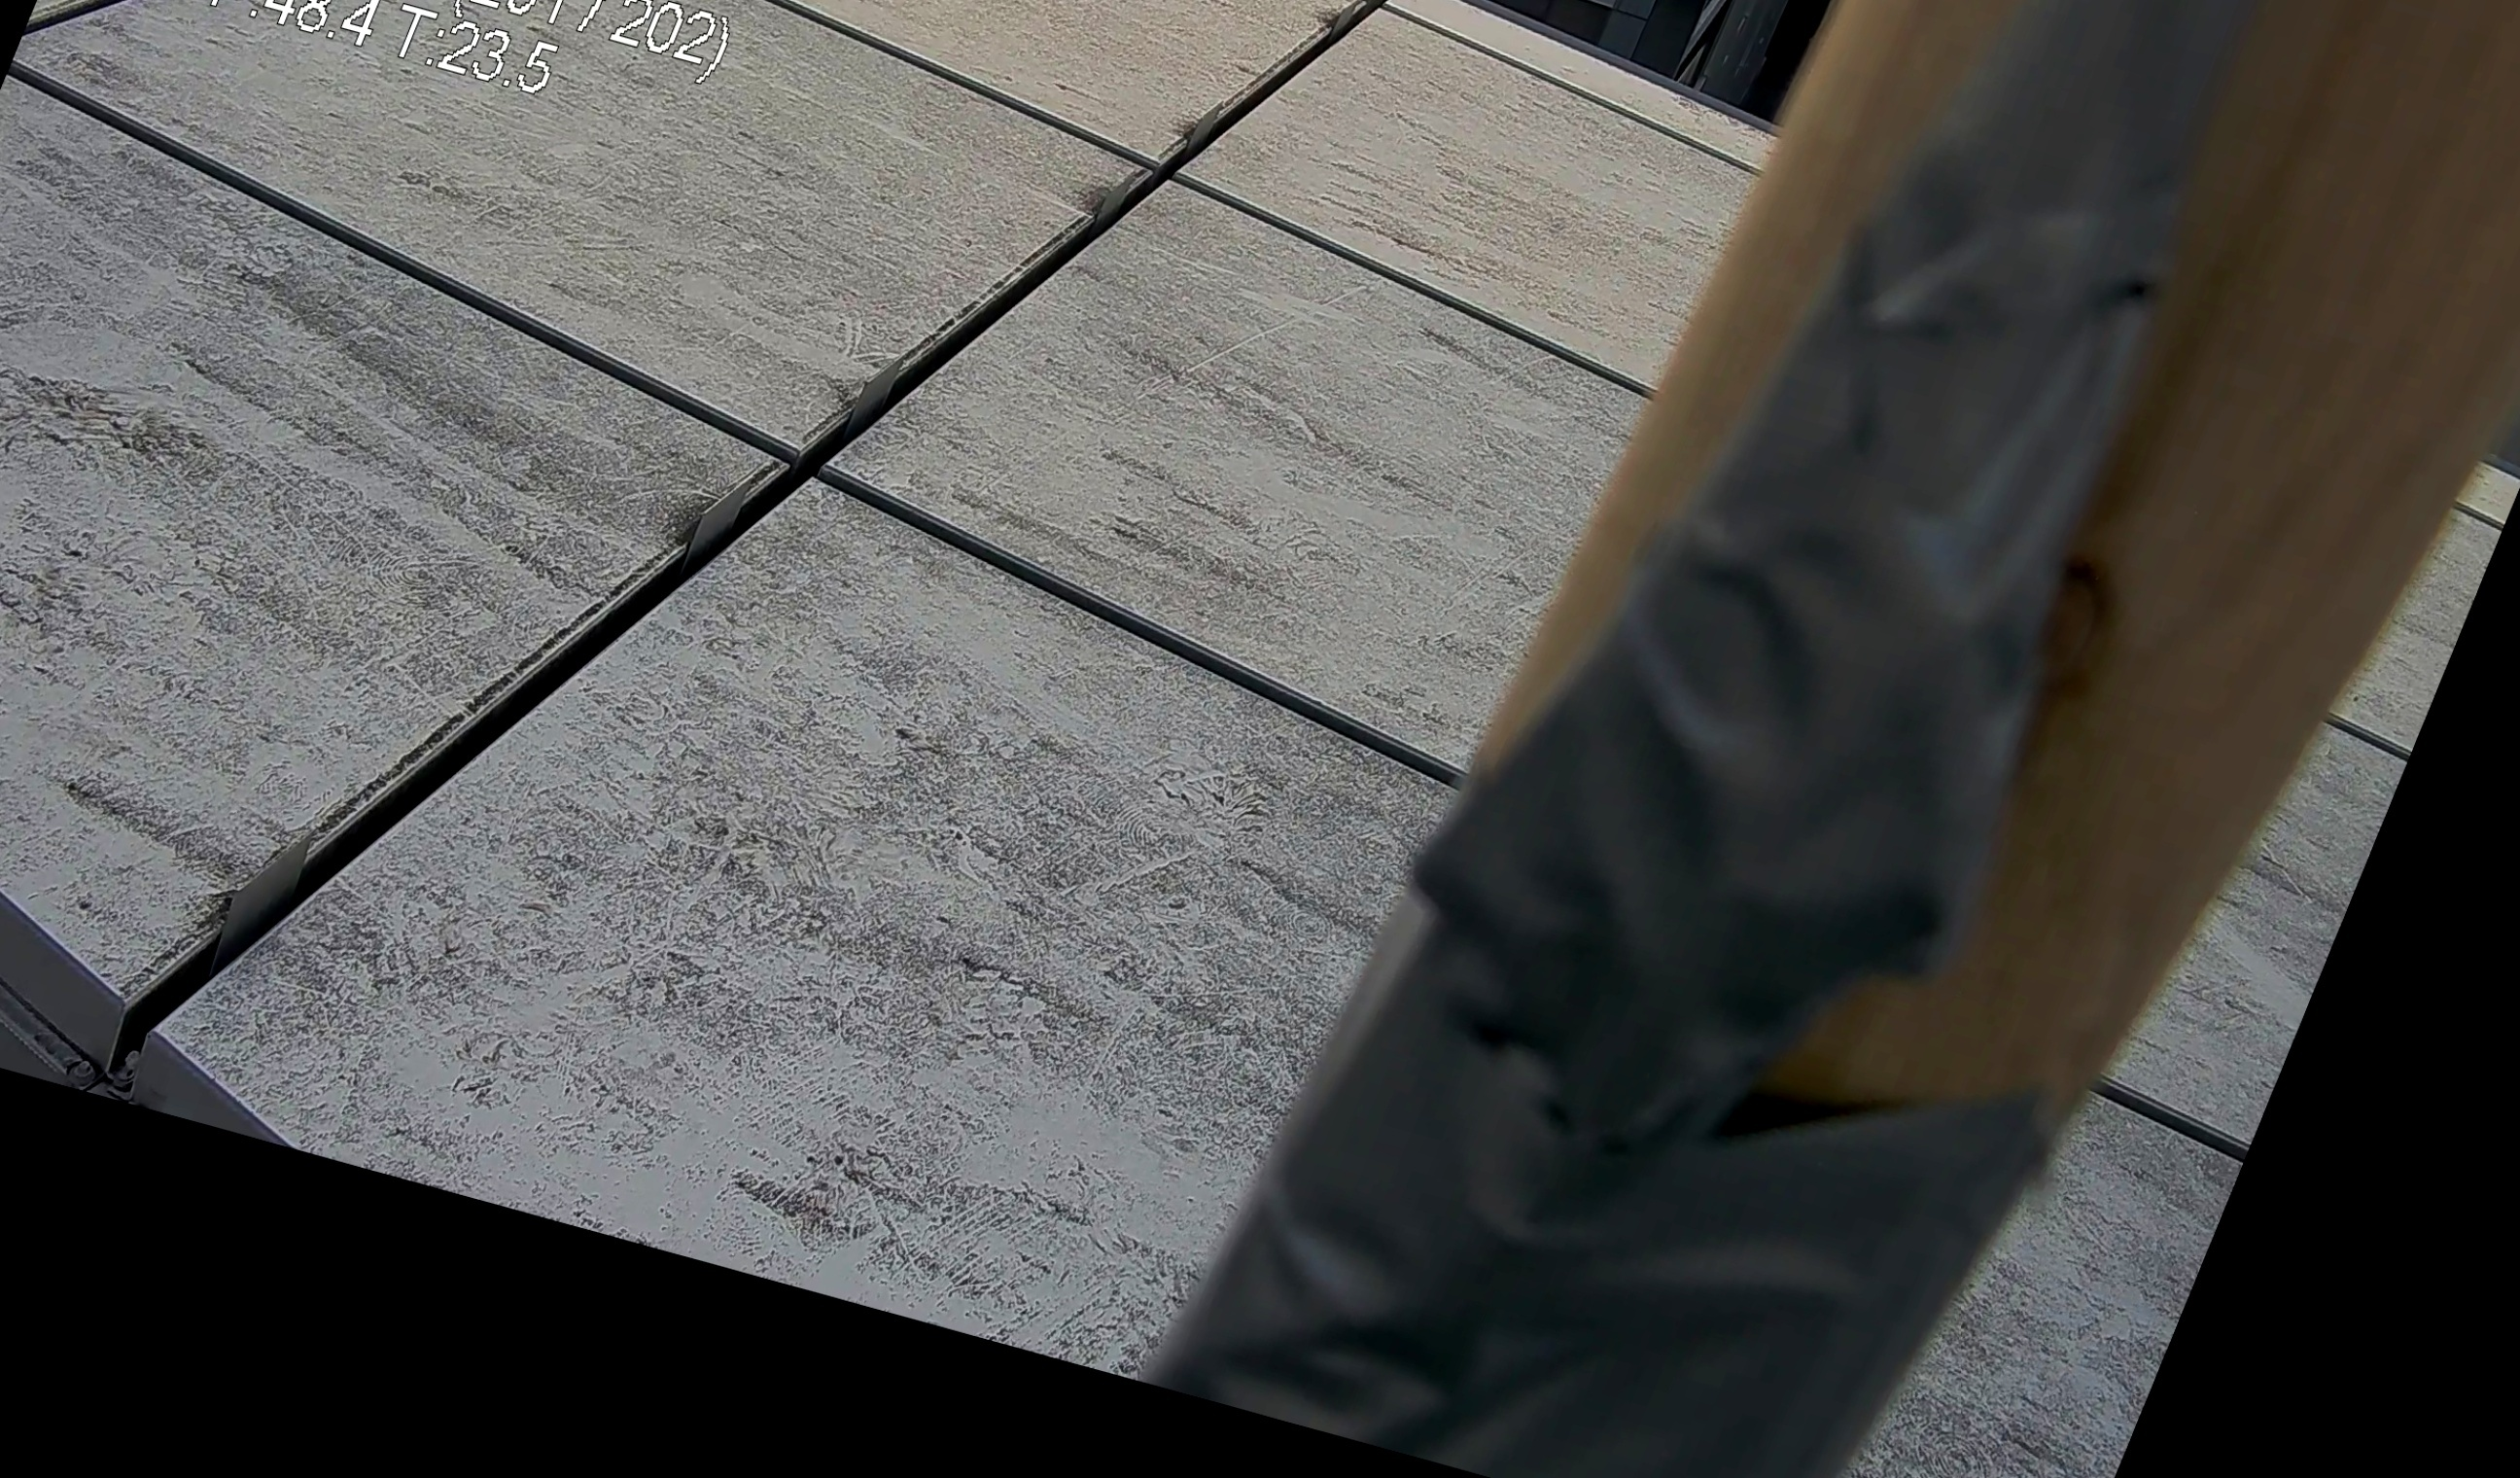Other: (1164, 0, 2520, 1478)
